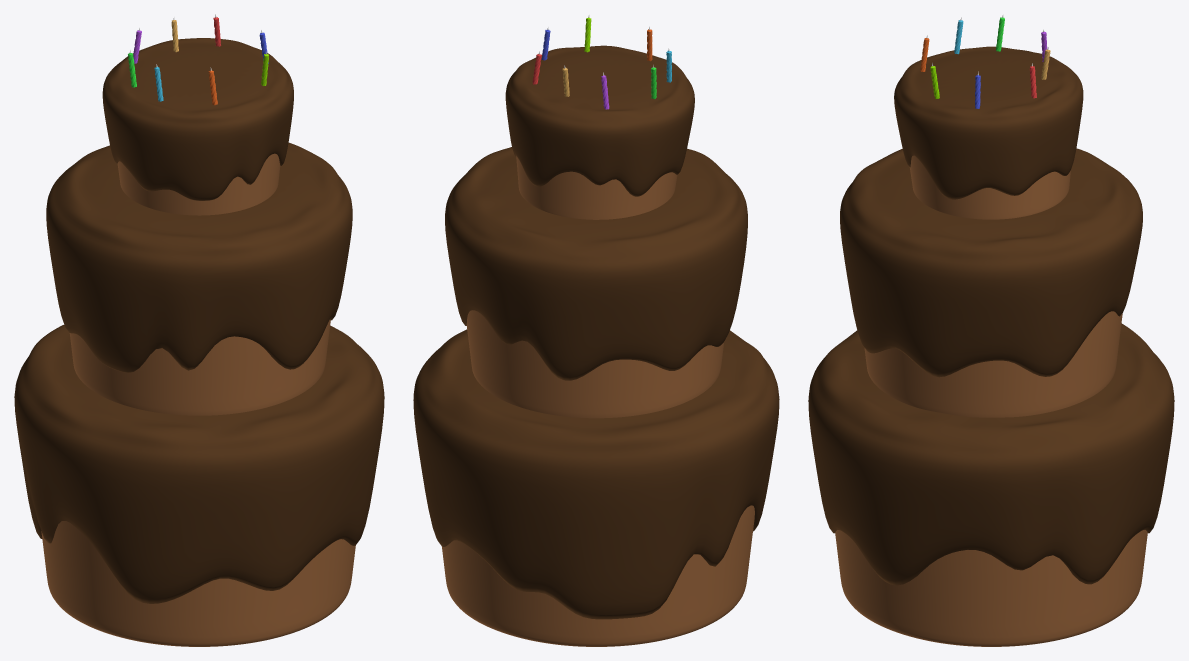
File: pastel.fbx
3 views of the same model, side by side, from view 1: azimuth 30°, elevation 25°; view 2: azimuth 150°, elevation 25°; view 3: azimuth 270°, elevation 25° (orthographic).
Parts seen in each view (by area): view 1: Cylinder.001, Cylinder.003, Cylinder.005, Cylinder, Cylinder.002, Cylinder.004; view 2: Cylinder.001, Cylinder.003, Cylinder.005, Cylinder, Cylinder.002, Cylinder.004; view 3: Cylinder.001, Cylinder.003, Cylinder.005, Cylinder, Cylinder.002, Cylinder.004.
Part boxes in pixels (<box>): Cylinder.001: <box>14,325,384,603</box>; Cylinder.003: <box>46,142,352,372</box>; Cylinder.005: <box>102,38,293,200</box>; Cylinder: <box>41,521,355,646</box>; Cylinder.002: <box>69,319,330,415</box>; Cylinder.004: <box>117,153,280,215</box>; Cylinder.001: <box>413,329,779,619</box>; Cylinder.003: <box>445,147,747,380</box>; Cylinder.005: <box>505,45,694,196</box>; Cylinder: <box>442,505,754,646</box>; Cylinder.002: <box>466,310,723,418</box>; Cylinder.004: <box>516,156,677,219</box>; Cylinder.001: <box>808,323,1174,585</box>; Cylinder.003: <box>840,148,1142,377</box>; Cylinder.005: <box>894,46,1083,199</box>; Cylinder: <box>835,530,1147,646</box>; Cylinder.002: <box>864,311,1122,417</box>; Cylinder.004: <box>909,155,1070,219</box>.
Size of the model in its own units: 242 by 394 by 242.
